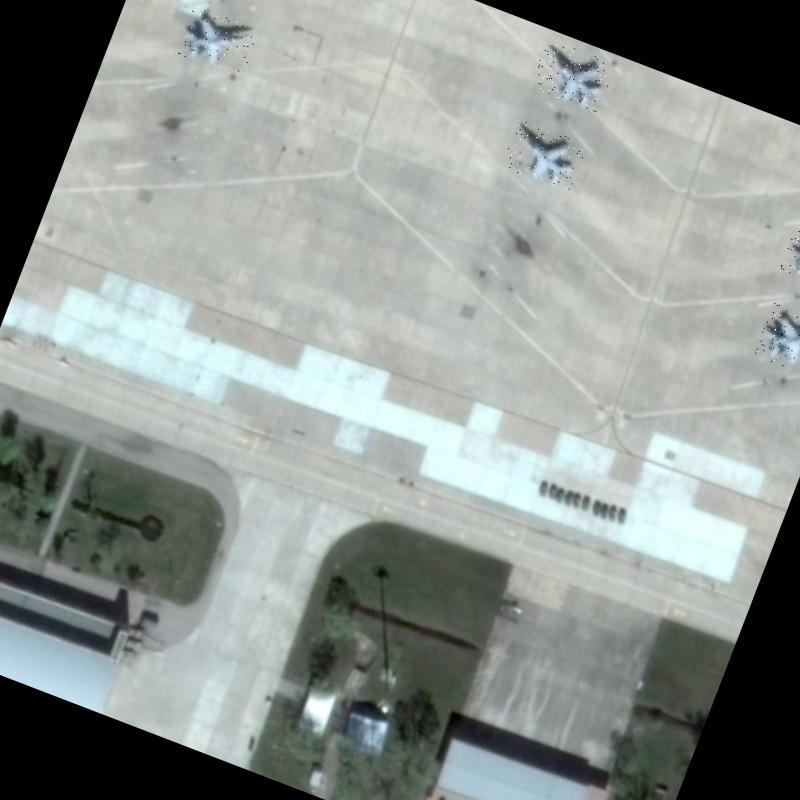A16: (499, 116, 588, 192), (528, 38, 615, 114), (174, 4, 260, 78), (753, 302, 800, 379), (779, 224, 800, 294)
